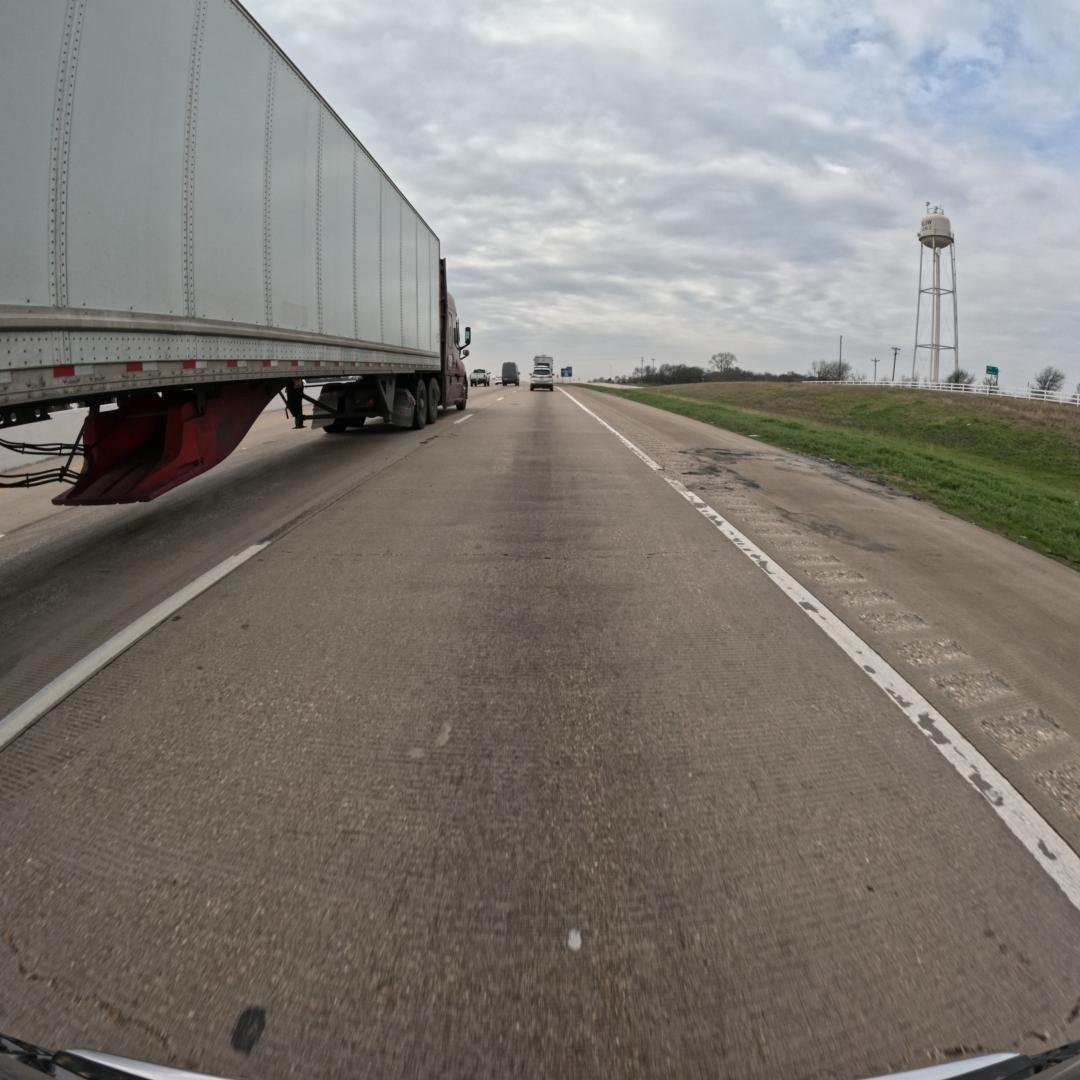lane0: (0, 389, 1080, 1080)
lane1: (0, 384, 511, 752)
